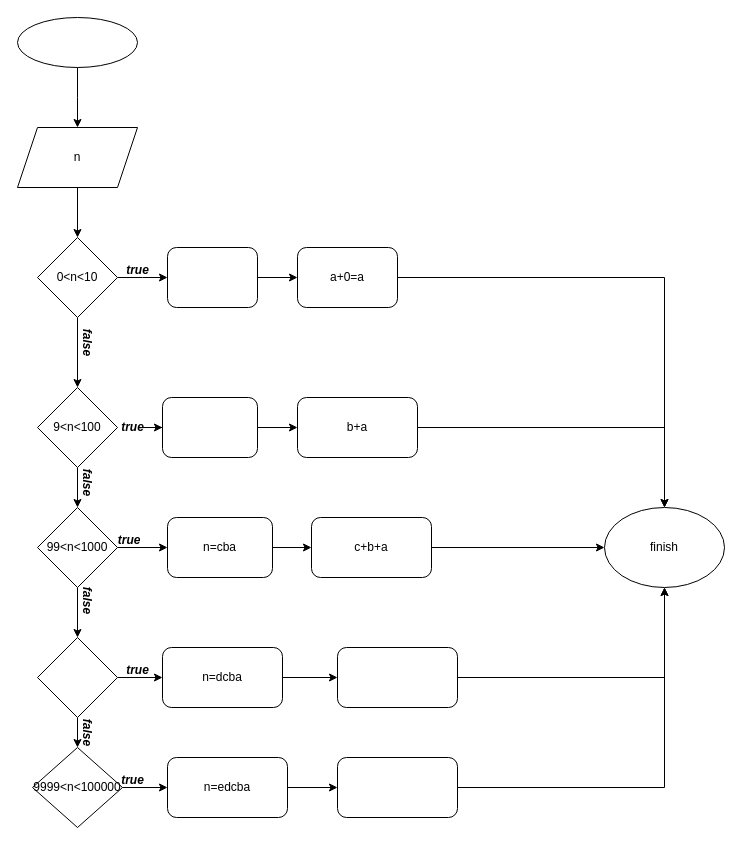
Image size: 742x845. Some labels were removed from this diagram. The box of each missing label's shape, as (x1, y1, x2, y2) in pixels:
999<n<10000: (36, 636, 118, 718)
d+b+c+a: (336, 646, 458, 708)
e+d+c+b+a: (336, 756, 458, 818)
n=a: (166, 246, 258, 308)
n=ba: (162, 396, 258, 458)
start: (16, 16, 138, 68)
